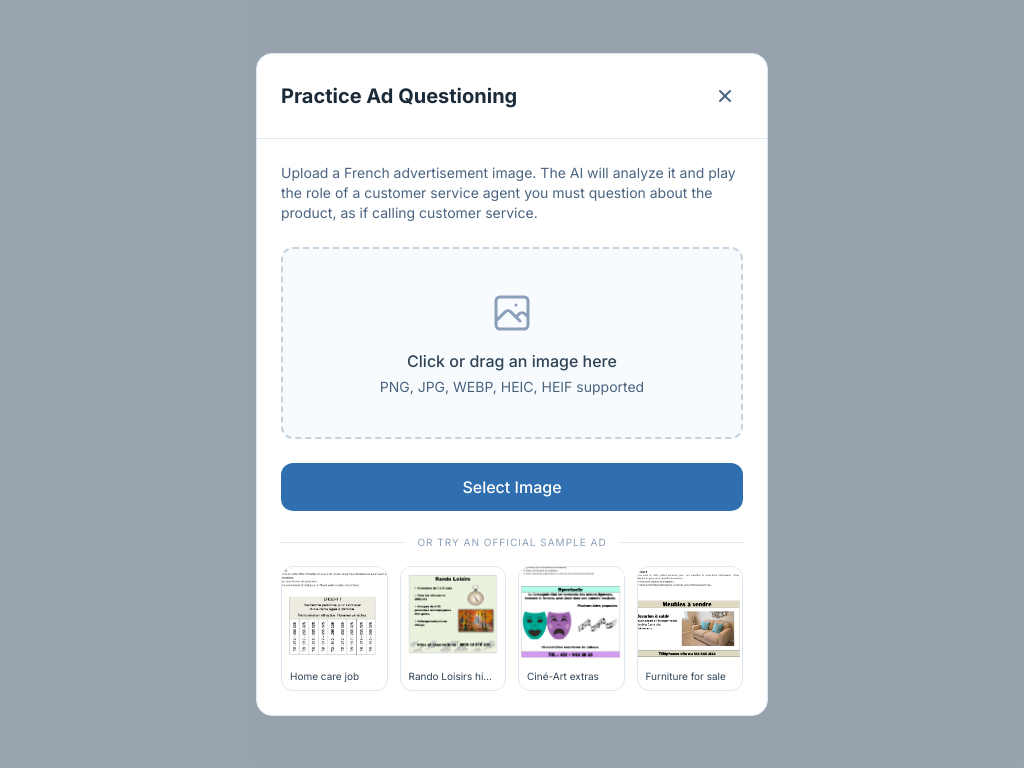
it: the gallery is not shown once an image is being confirmed
Click the button "Home care job" at (334,628), box left=281, top=566, right=388, bottom=690
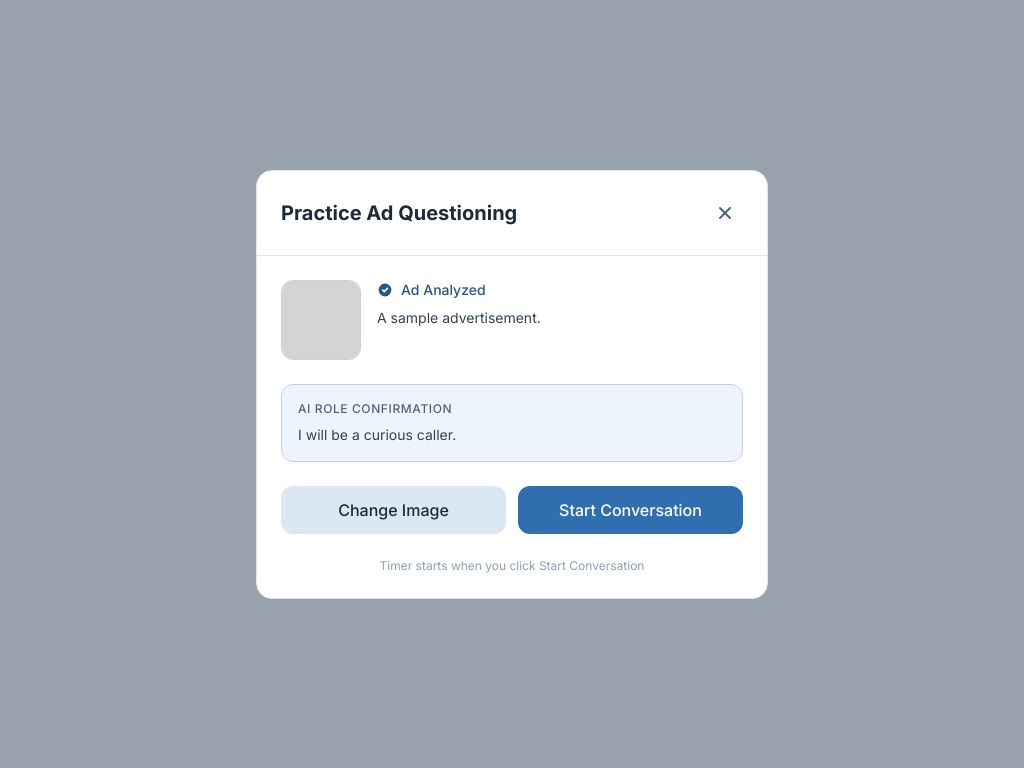
Now the button "Start Conversation" is shown, box left=518, top=486, right=743, bottom=534
Now the button "Home care job" is gone
